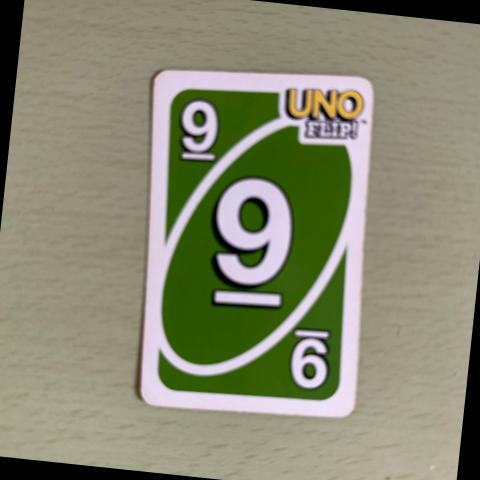2_red: (204, 176, 293, 313), (286, 324, 338, 395), (175, 98, 222, 163)
